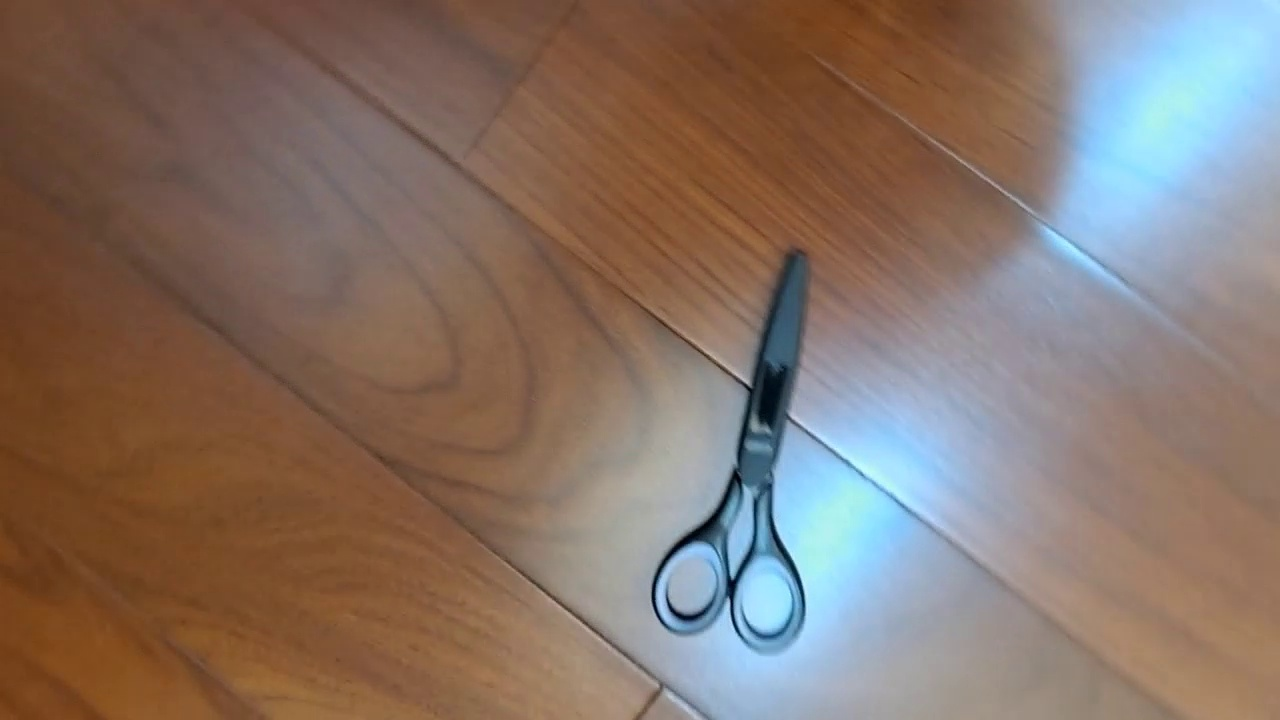scissors: (649, 246, 811, 656)
